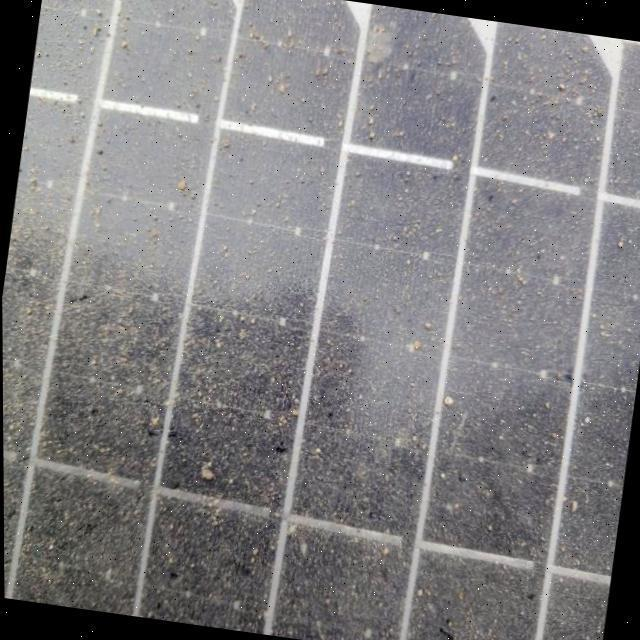Surface Contaminant: (2, 0, 640, 640)
